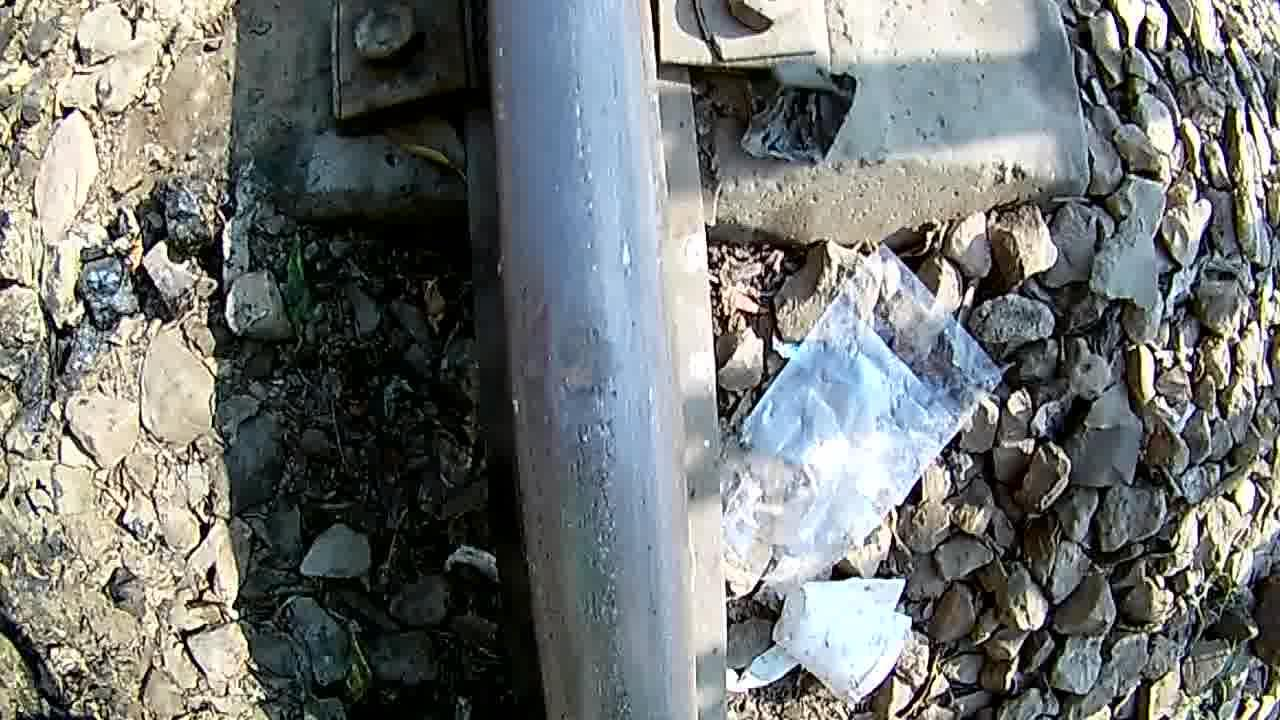bolt_missing: (508, 288, 666, 468)
